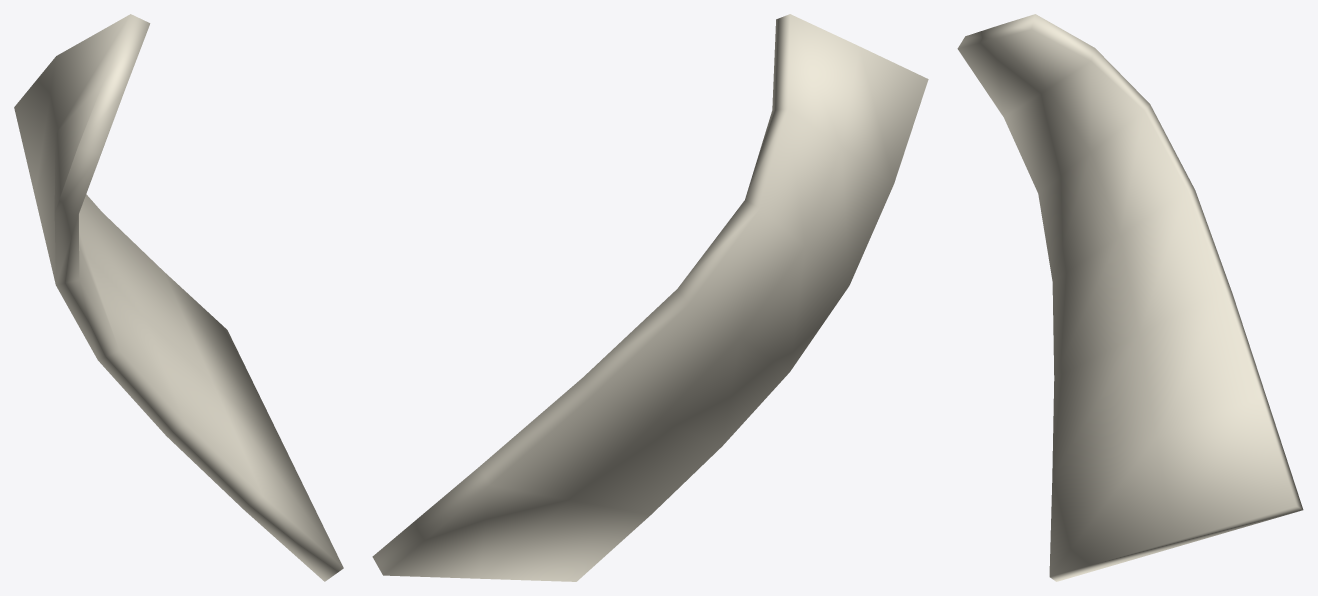
The picture shows the model from 3 angles, left to right: view 1: azimuth 30°, elevation 25°; view 2: azimuth 150°, elevation 25°; view 3: azimuth 270°, elevation 25°; orthographic projection. The views are drawn at different scales.
Parts seen in each view (by area): view 1: ZA_e22ff25188fb9bdc; view 2: ZA_e22ff25188fb9bdc; view 3: ZA_e22ff25188fb9bdc.
Boxes of the visible parts, bbox=[...] form: ZA_e22ff25188fb9bdc: bbox=[14, 14, 343, 581]; ZA_e22ff25188fb9bdc: bbox=[372, 14, 928, 581]; ZA_e22ff25188fb9bdc: bbox=[957, 14, 1303, 581].
Size of the model in its own units: 0.00865 by 0.0143 by 0.00918.
